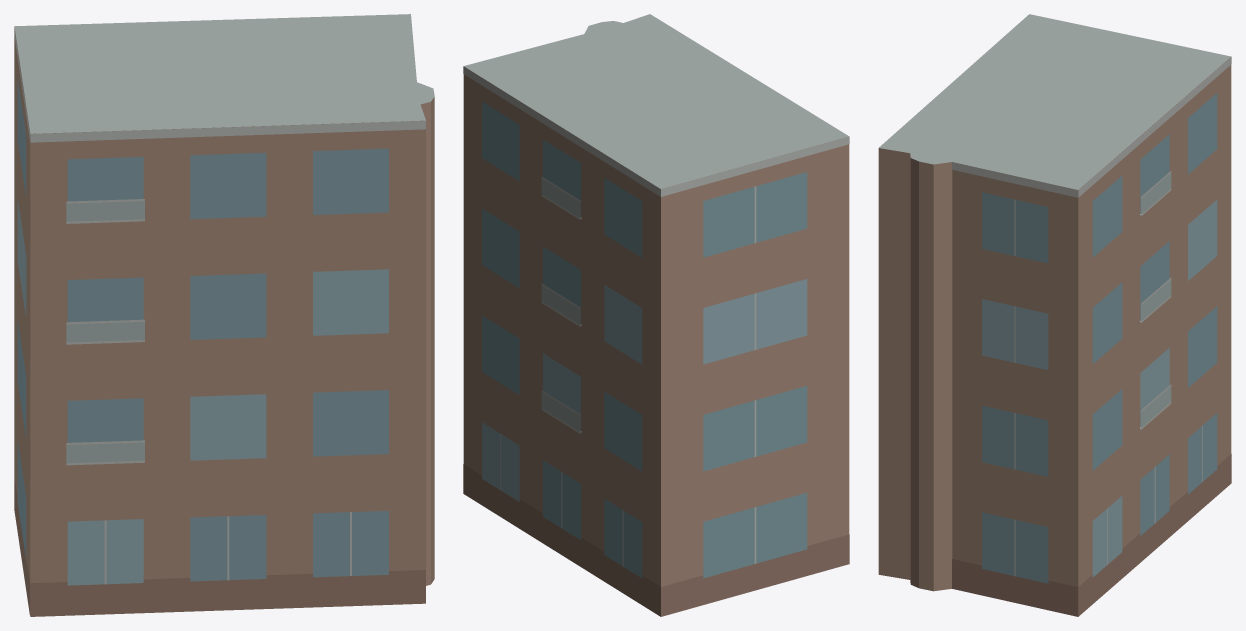
Rendered from survey-upis-32734757.glb.
3 renders of one model, left to right at view 1: azimuth 30°, elevation 25°; view 2: azimuth 150°, elevation 25°; view 3: azimuth 270°, elevation 25°, orthographic. The views are drawn at different scales.
Visible parts, largest first — view 1: survey-upis-32734757.tmp; view 2: survey-upis-32734757.tmp; view 3: survey-upis-32734757.tmp.
Part boxes in pixels (x1,y1,x2,y2): survey-upis-32734757.tmp: (14,14,434,616); survey-upis-32734757.tmp: (463,14,849,616); survey-upis-32734757.tmp: (878,14,1231,616).
Size of the model in its own units: 11.86 by 13.4 by 10.05.
